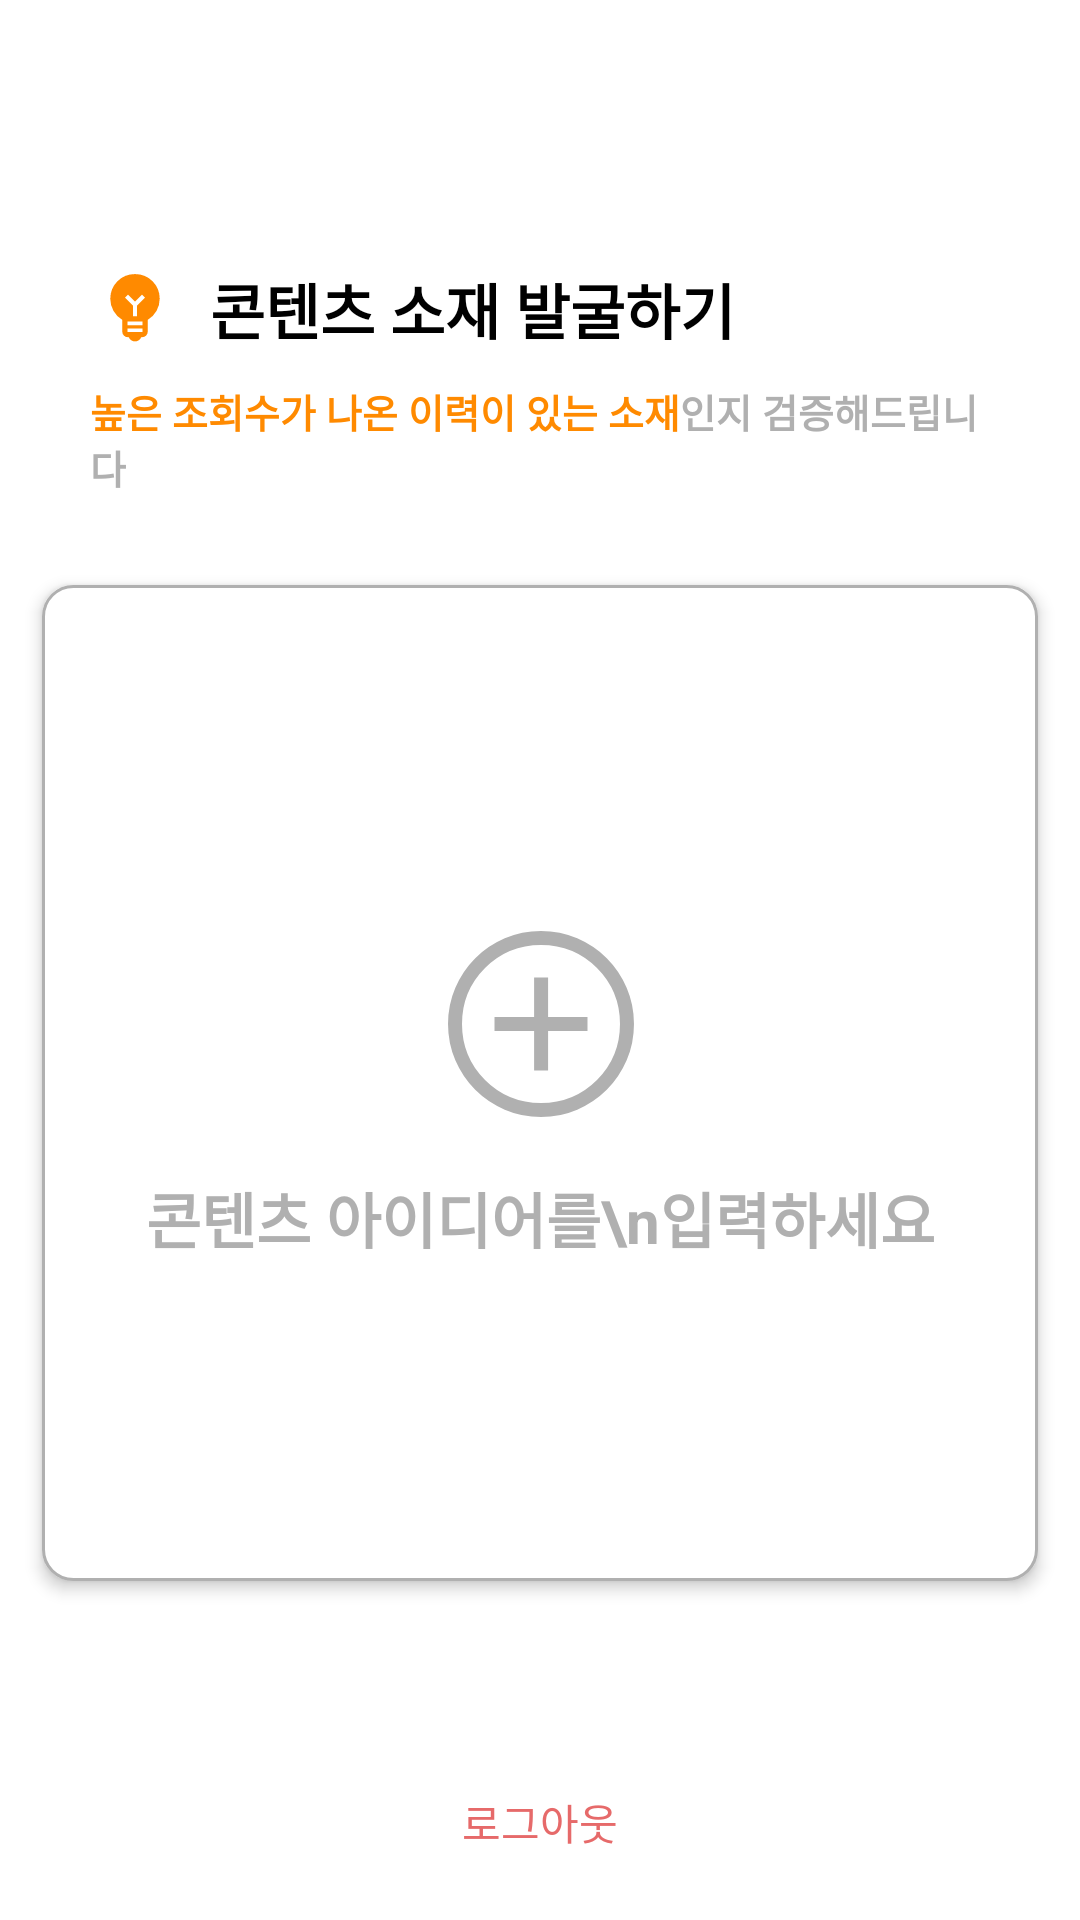

Point at icon controls on the screen. Image size 1080px×1920px, points as [x,y].
add circle: [541,1024]
emoji objects: [135,308]
